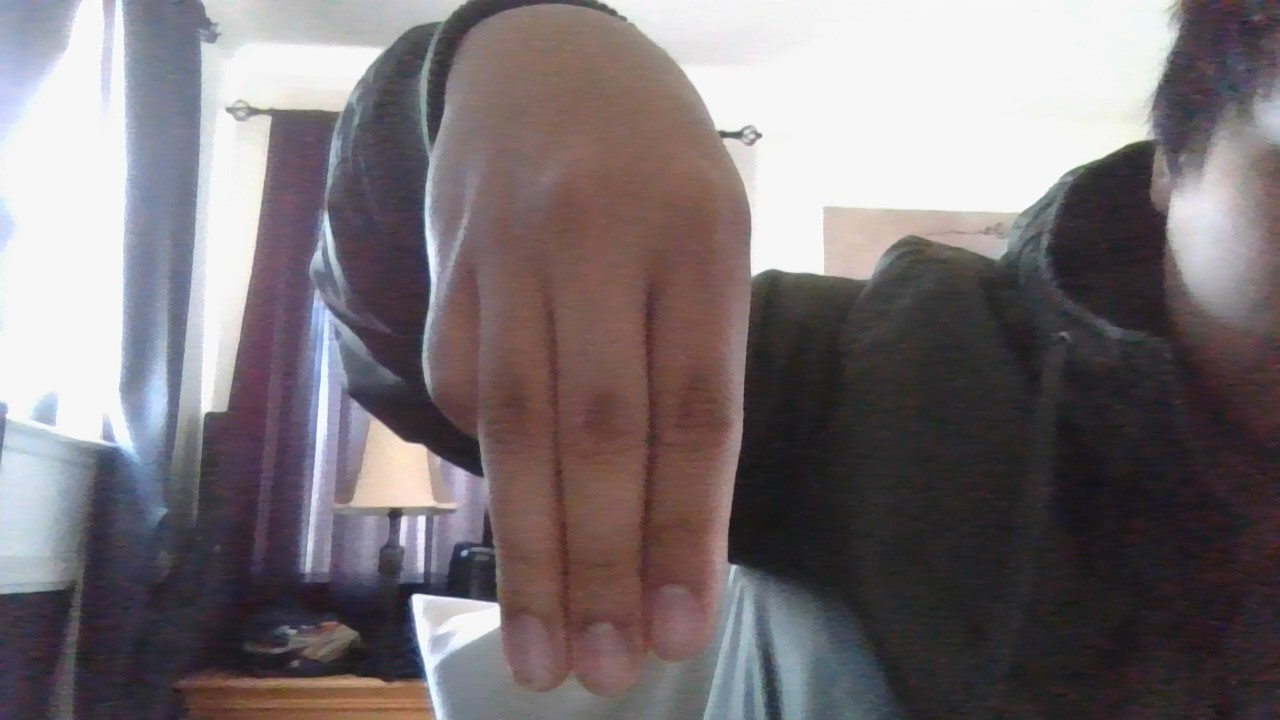m: (344, 1, 773, 706)
